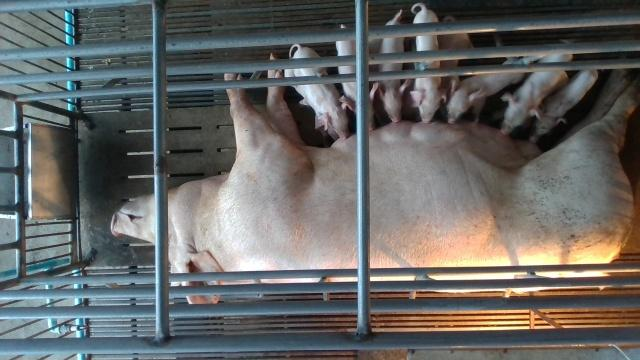piglet: (497, 53, 572, 133), (289, 43, 350, 140), (530, 70, 598, 146), (448, 59, 526, 125), (408, 3, 448, 123), (336, 24, 380, 130), (381, 8, 410, 127), (443, 15, 474, 92)
sow-sleep-lactate: (110, 51, 640, 304)
